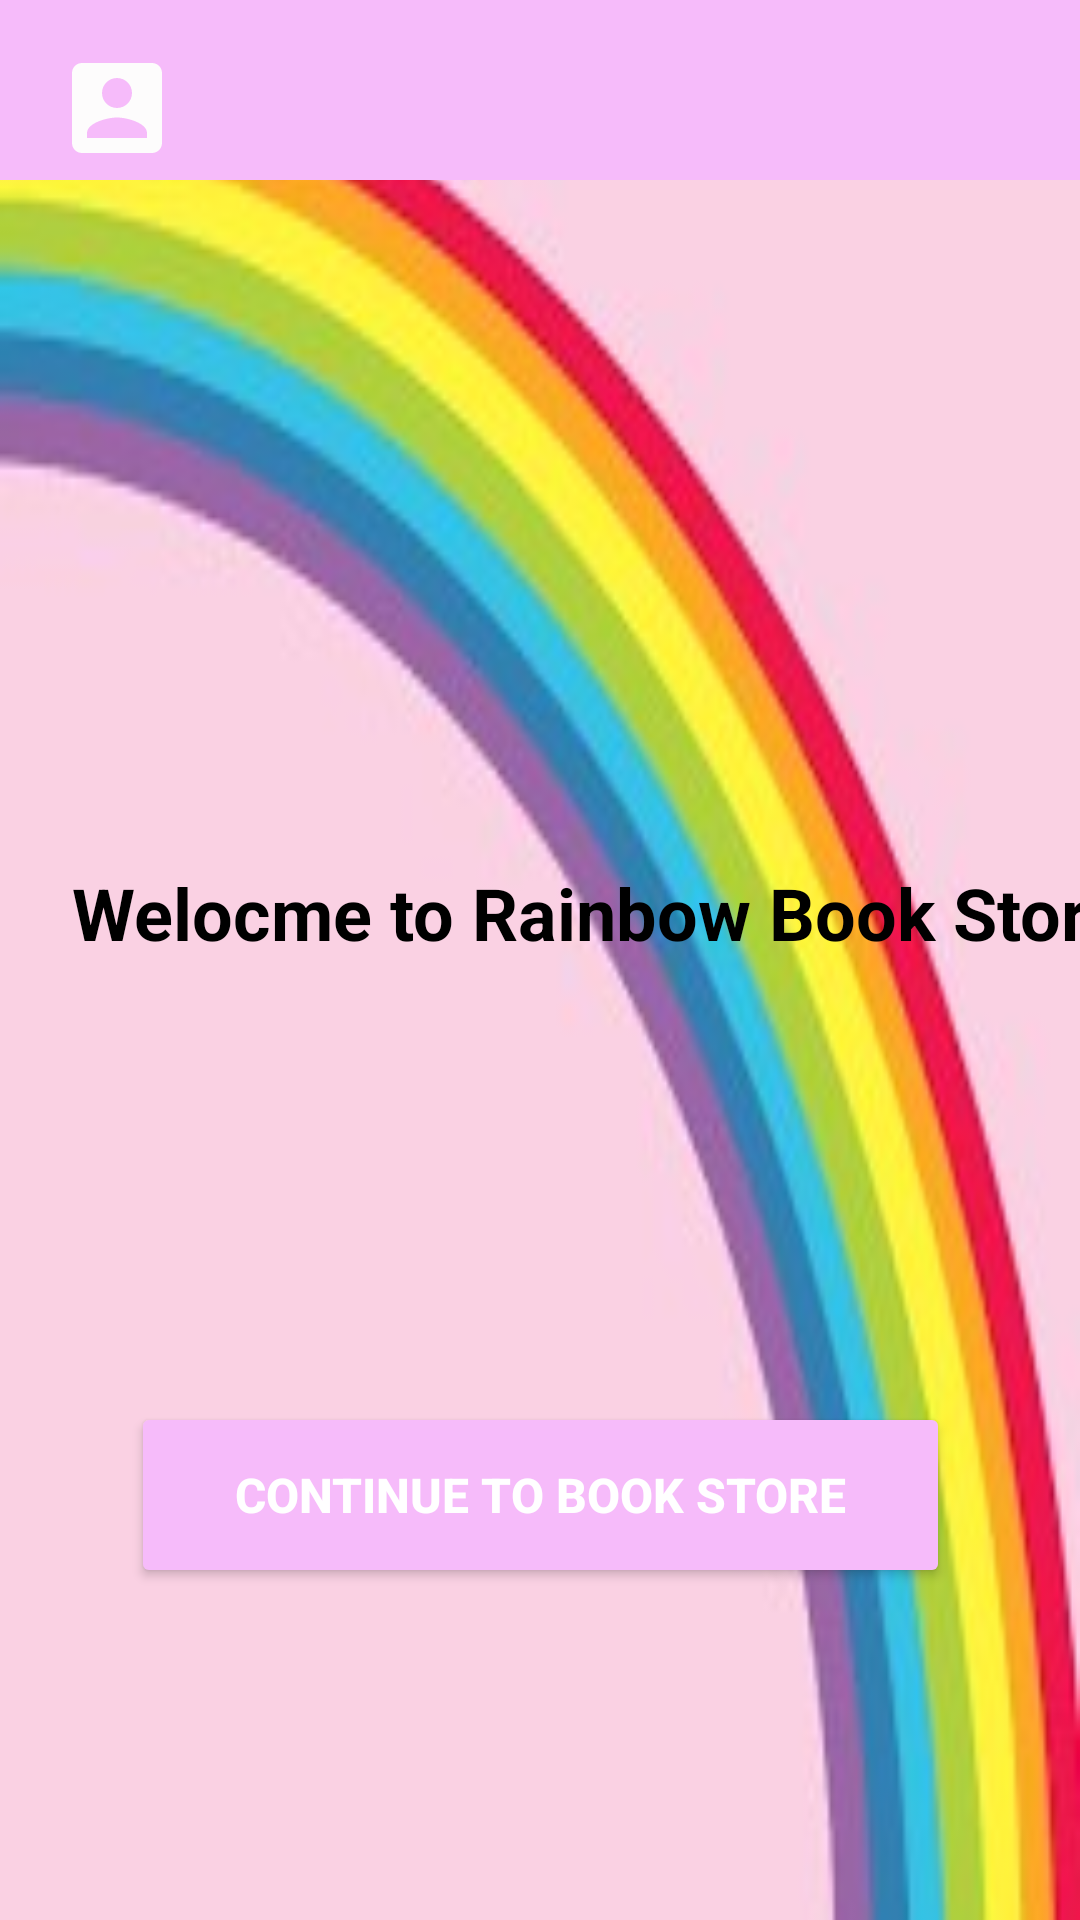

Icon bounding boxes for this 1080*1920 phone screenshot, format (x1=x1, y1=y1, x2=x2, y2=y2):
account box: (x1=72, y1=63, x2=162, y2=153)
